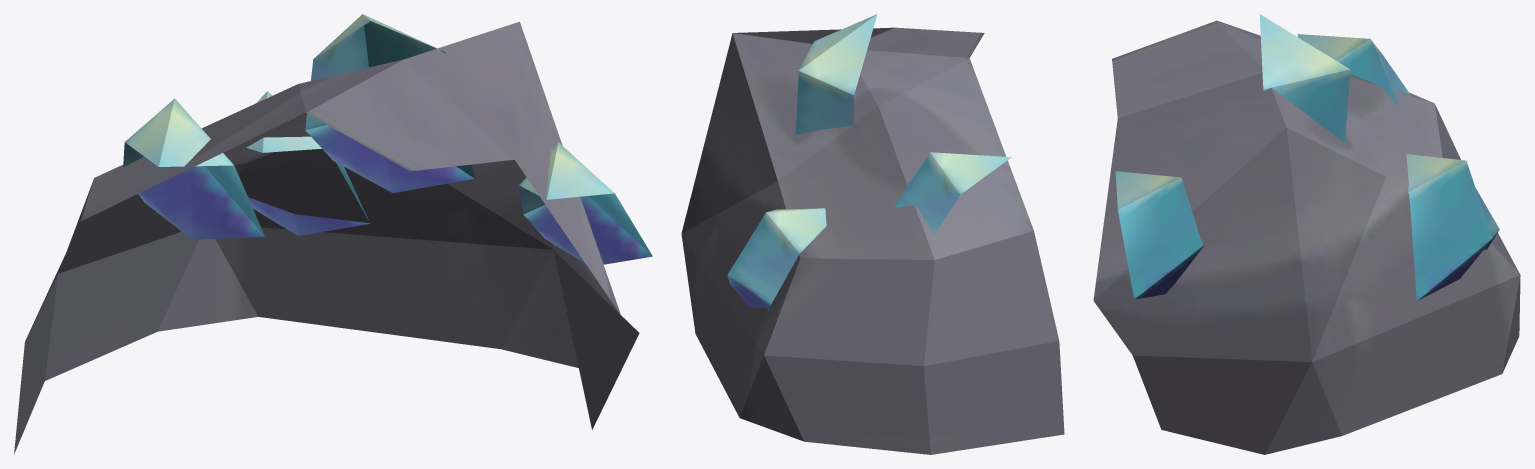
File: RockSmallDiamond.fbx
The picture shows the model from 3 angles, left to right: view 1: azimuth 30°, elevation 25°; view 2: azimuth 150°, elevation 25°; view 3: azimuth 270°, elevation 25°; orthographic projection. The views are drawn at different scales.
Visible parts, largest first — view 1: RockMesh, Resource1 (2), Resource1, Resource2, Resource1 (1); view 2: RockMesh, Resource1, Resource1 (1), Resource1 (2); view 3: RockMesh, Resource1 (1), Resource2, Resource1, Resource1 (2).
Boxes of the visible parts, left/top/right/bottom form: RockMesh: left=14, top=21, right=639, bottom=454; Resource1 (2): left=123, top=98, right=264, bottom=239; Resource1: left=305, top=14, right=474, bottom=192; Resource2: left=519, top=142, right=652, bottom=264; Resource1 (1): left=246, top=91, right=370, bottom=235; RockMesh: left=681, top=27, right=1064, bottom=454; Resource1: left=795, top=14, right=877, bottom=134; Resource1 (1): left=727, top=208, right=826, bottom=311; Resource1 (2): left=893, top=152, right=1011, bottom=234; RockMesh: left=1093, top=20, right=1520, bottom=454; Resource1 (1): left=1406, top=154, right=1499, bottom=300; Resource2: left=1115, top=171, right=1204, bottom=299; Resource1: left=1259, top=14, right=1350, bottom=142; Resource1 (2): left=1297, top=34, right=1410, bottom=106.
Size of what is drawn, in the model's own units: 1.06 by 0.7978 by 0.8882.
